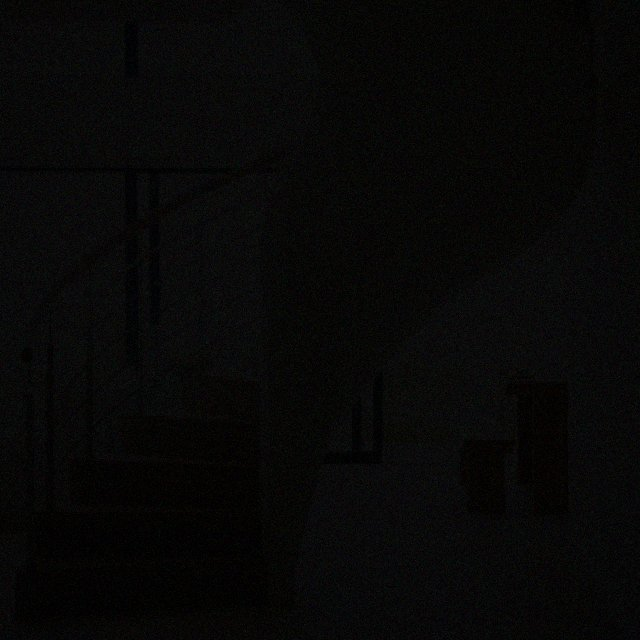stair: (16, 147, 287, 618)
